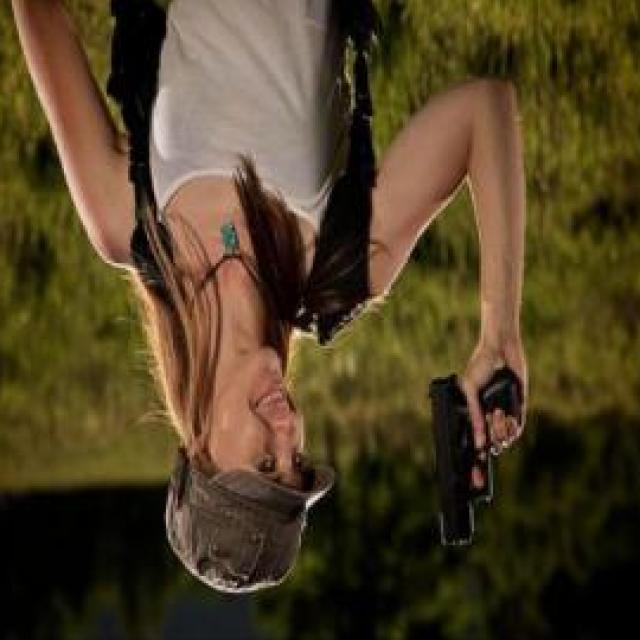pistol: (430, 373, 519, 550)
